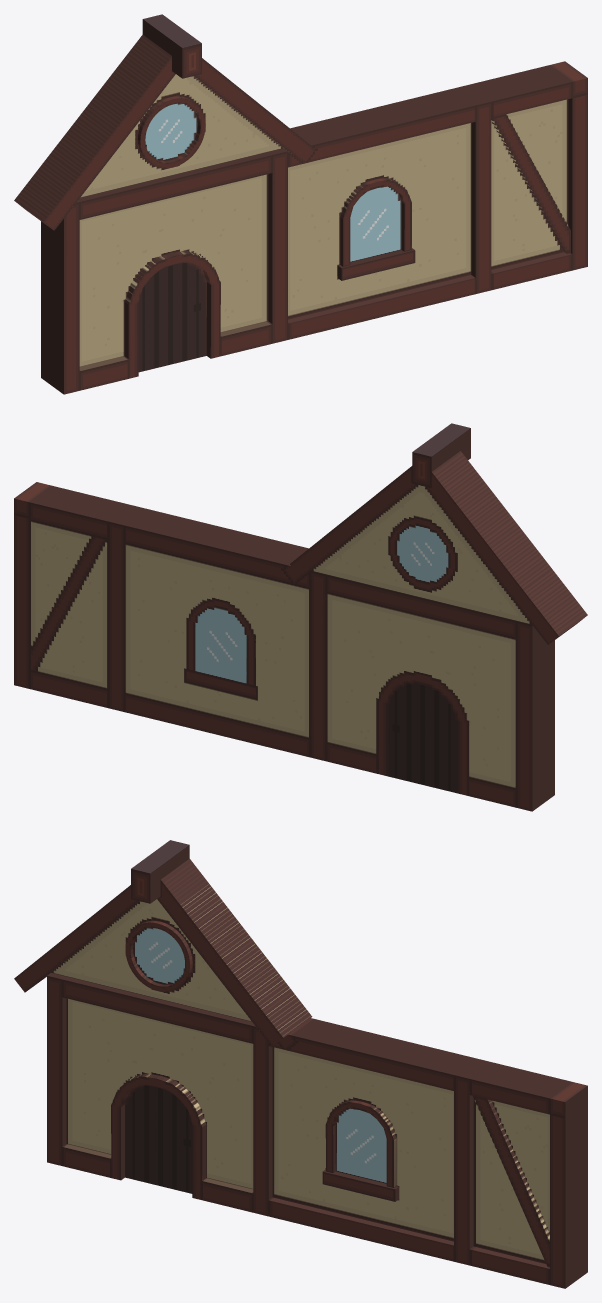
File: House.fbx
3 views of the same model, one above another, from view 1: azimuth 30°, elevation 25°; view 2: azimuth 150°, elevation 25°; view 3: azimuth 330°, elevation 25° (orthographic).
Parts seen in each view (by area): view 1: builing_fix_1500px; view 2: builing_fix_1500px; view 3: builing_fix_1500px.
Boxes of the visible parts, <box> form: builing_fix_1500px: <box>14,14,587,394</box>; builing_fix_1500px: <box>14,423,587,811</box>; builing_fix_1500px: <box>14,840,587,1288</box>.
Size of the model in its own units: 609 by 353 by 76.06.
